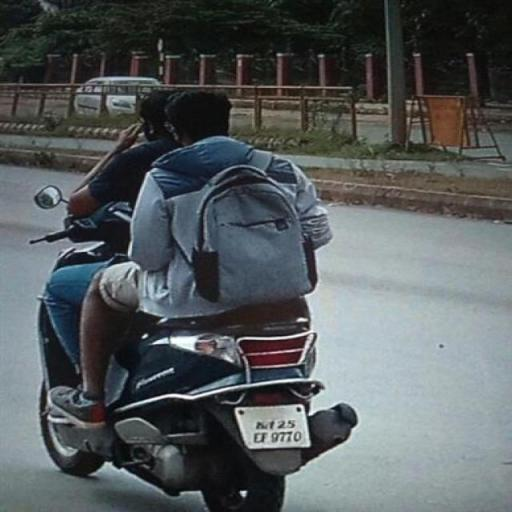using mobile: (116, 113, 154, 146)
